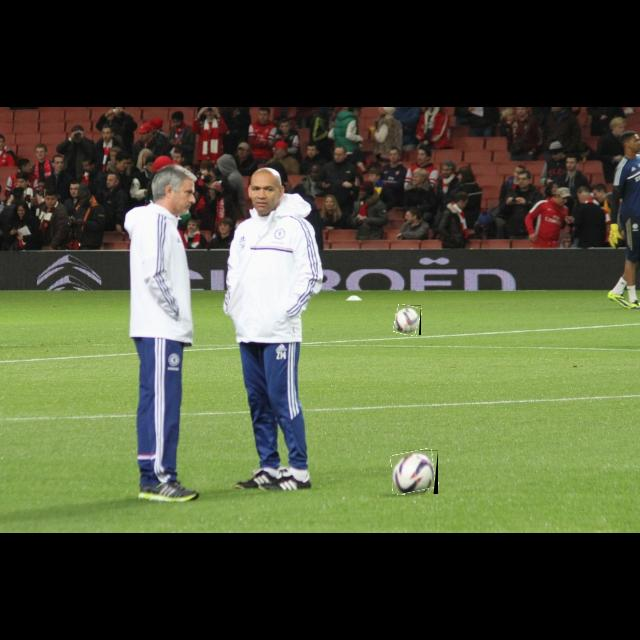Football: (392, 450, 438, 494), (395, 305, 421, 335)
